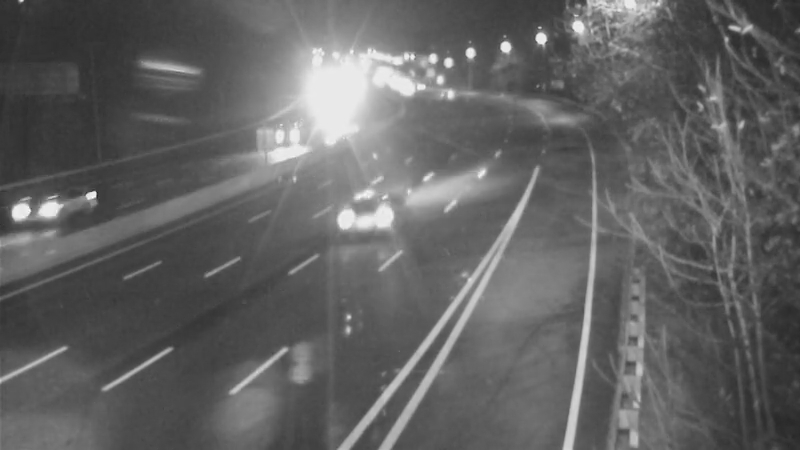vehicle: (322, 176, 402, 256), (4, 168, 84, 248), (420, 66, 470, 116), (263, 111, 313, 161)
